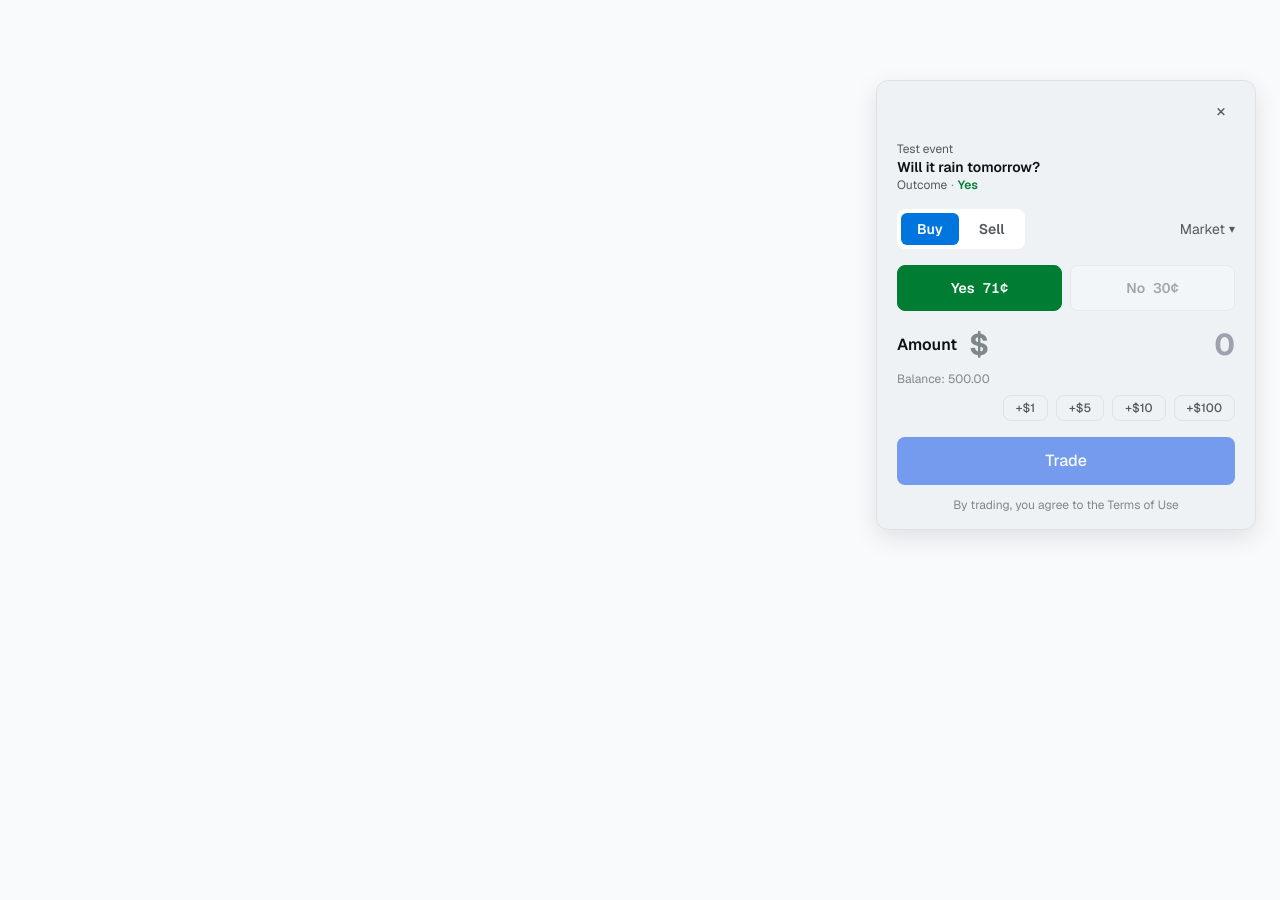
Test case: BetSlip — shares model › shows the share price in cents and the shares to win
Type "25" into the field labelled "Amount". click: (1113, 345)
box: [991,327,1235,363]
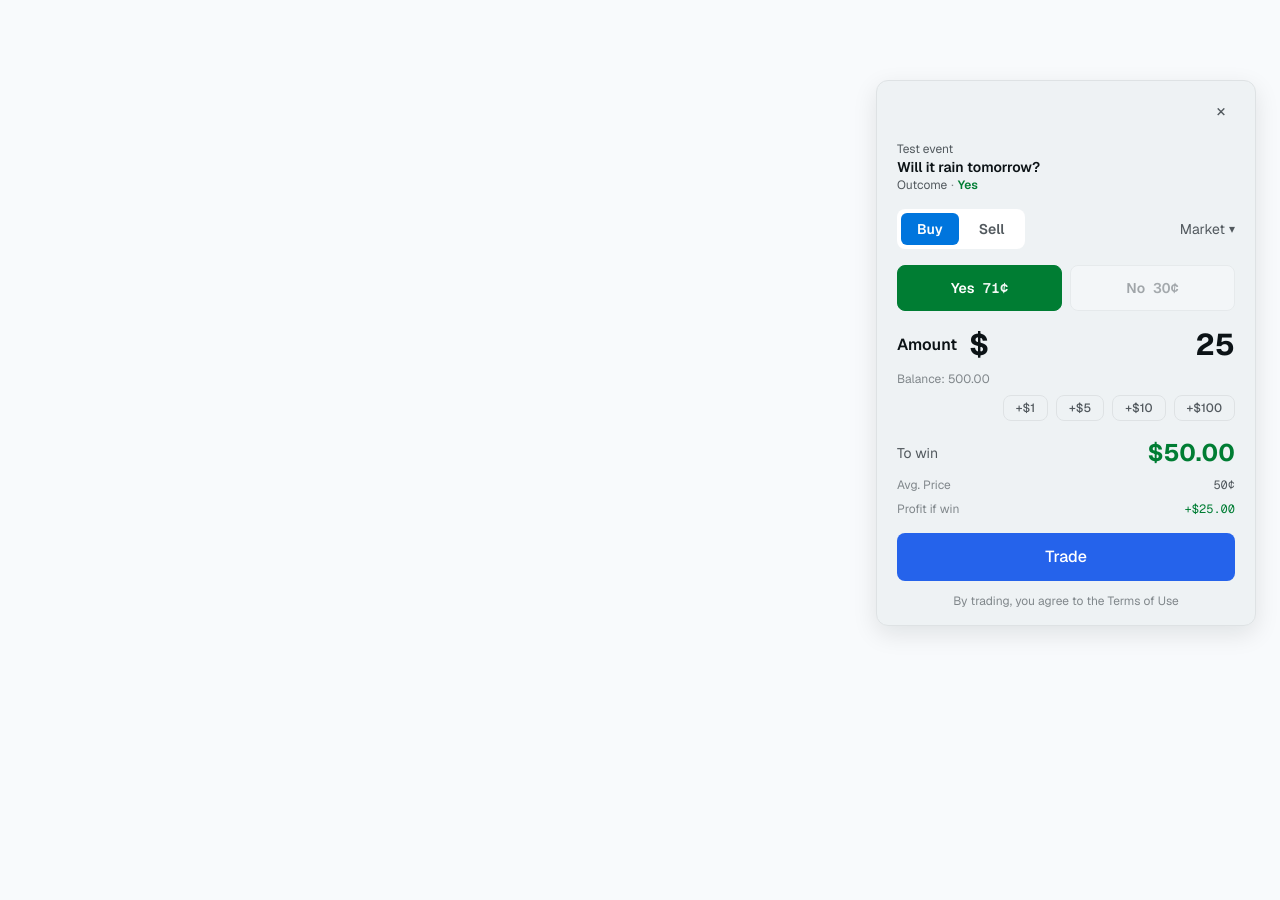
Expected: the text "71¢" is shown, [982,278,1008,298]
Now the text "$50.00" is shown, box [1148,437,1235,469]
